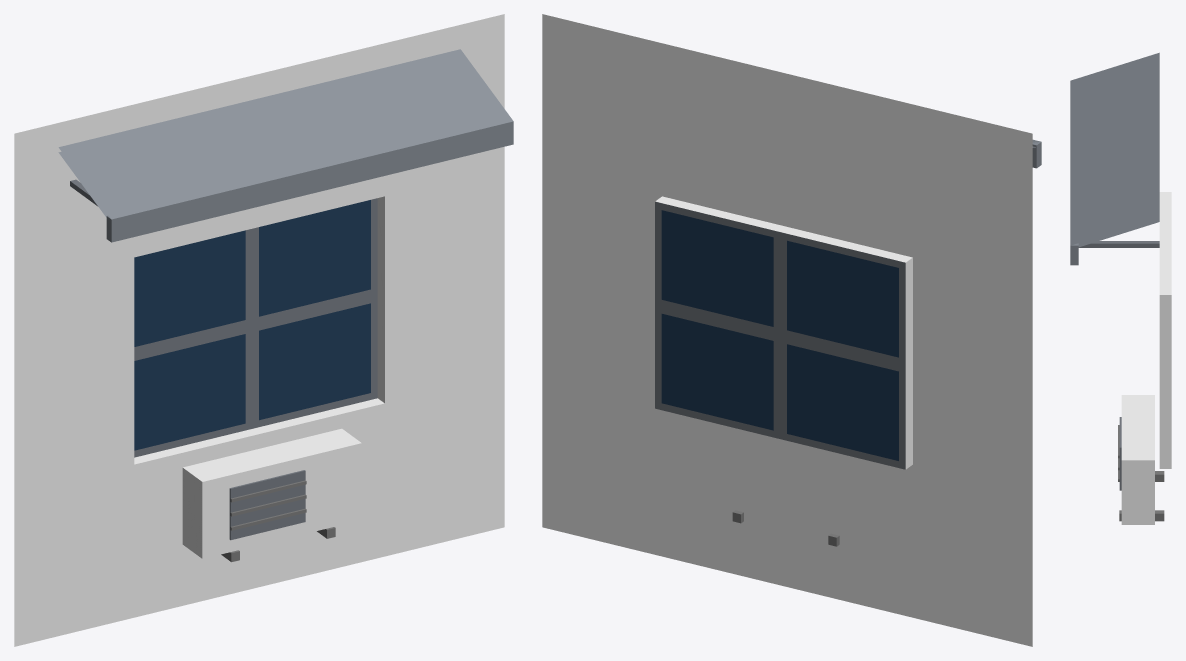
Rendered from mid-w1_close.fbx.
The picture shows the model from 3 angles, left to right: view 1: azimuth 30°, elevation 25°; view 2: azimuth 150°, elevation 25°; view 3: azimuth 270°, elevation 25°; orthographic projection. The views are drawn at different scales.
Parts seen in each view (by area): view 1: M_Wall.011; view 2: M_Wall.011; view 3: M_Wall.011.
Part boxes in pixels (x1,y1,x2,y2): M_Wall.011: (14,14,513,646); M_Wall.011: (542,14,1041,646); M_Wall.011: (1070,52,1171,524).
Bounding box in the file's own units: 4 × 4 × 0.85.
